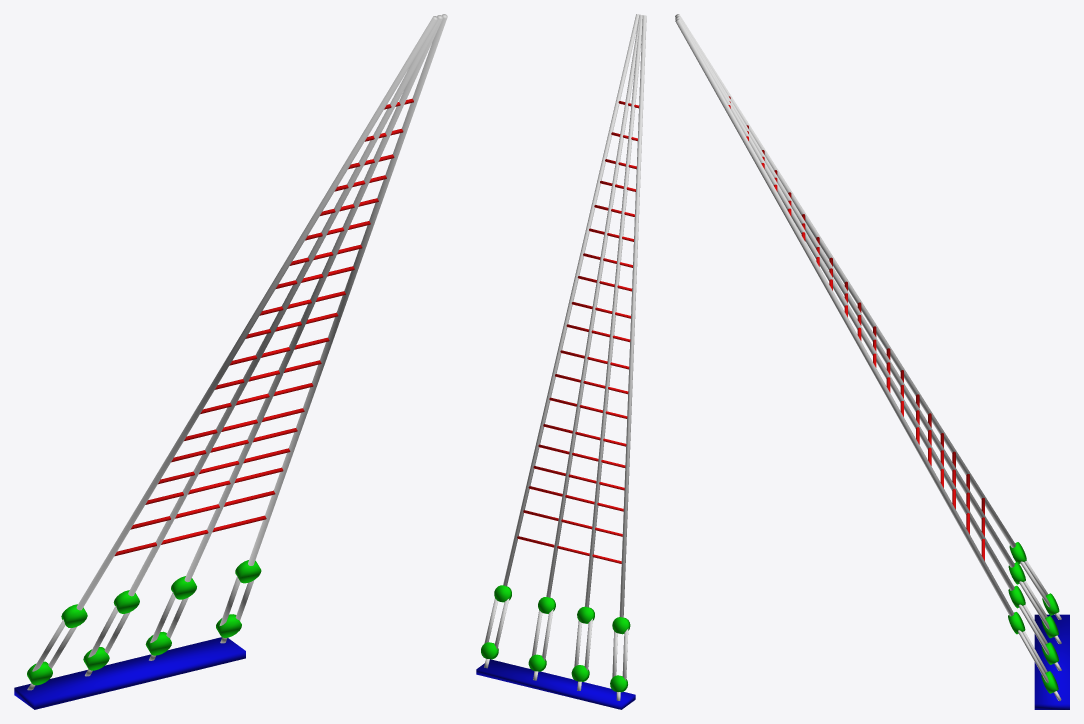
File: 8rope1l 1.fbx
3 views of the same model, side by side, from view 1: azimuth 30°, elevation 25°; view 2: azimuth 150°, elevation 25°; view 3: azimuth 270°, elevation 25° (orthographic). The views are drawn at different scales.
Parts seen in each view (by area): view 1: 1l; view 2: 1l; view 3: 1l.
Part boxes in pixels (x1,y1,x2,y2): 1l: [14, 14, 447, 709]; 1l: [476, 14, 646, 709]; 1l: [675, 14, 1069, 709].
Bounding box in the file's own units: 303 × 1082 × 563.
